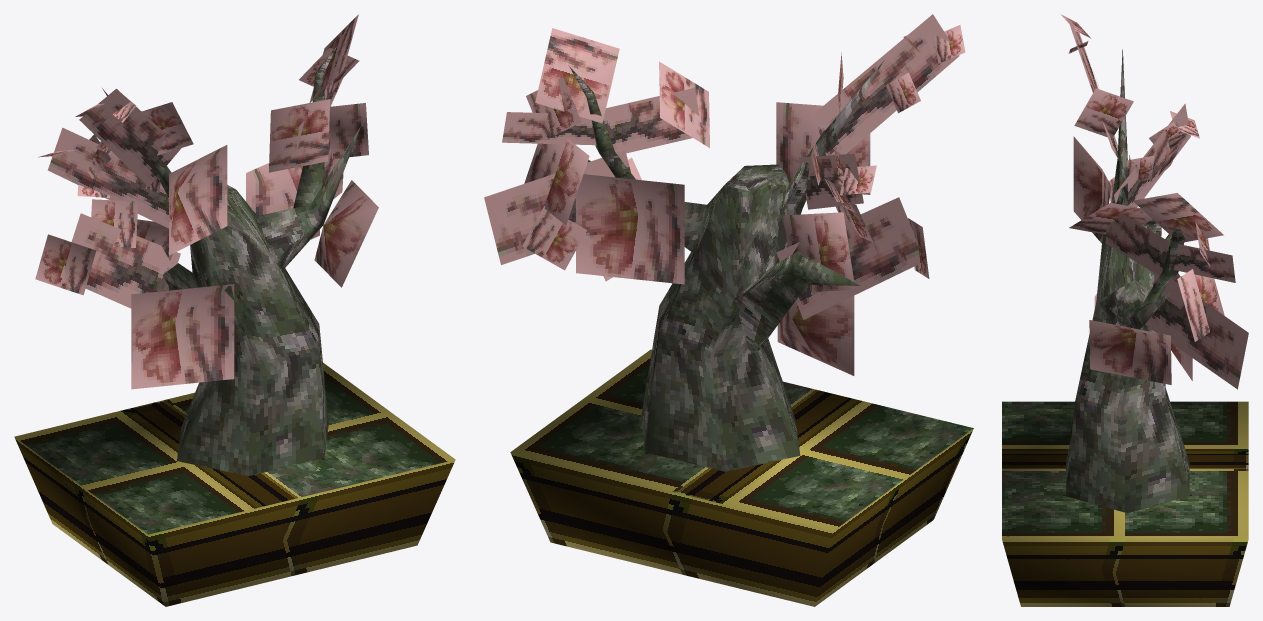
The model's file is int_bon_apricot.dae.
3 views of the same model, side by side, from view 1: azimuth 30°, elevation 25°; view 2: azimuth 150°, elevation 25°; view 3: azimuth 270°, elevation 25° (orthographic). The views are drawn at different scales.
Visible parts, largest first — view 1: int_bon_apricot; view 2: int_bon_apricot; view 3: int_bon_apricot.
Part boxes in pixels (box(x1,y1,x2,y2)): int_bon_apricot: box(14, 14, 455, 606); int_bon_apricot: box(484, 14, 973, 606); int_bon_apricot: box(1002, 14, 1248, 606).
Bounding box in the file's own units: 29.71 × 39.07 × 18.76.
3 materials, 3 textured.
